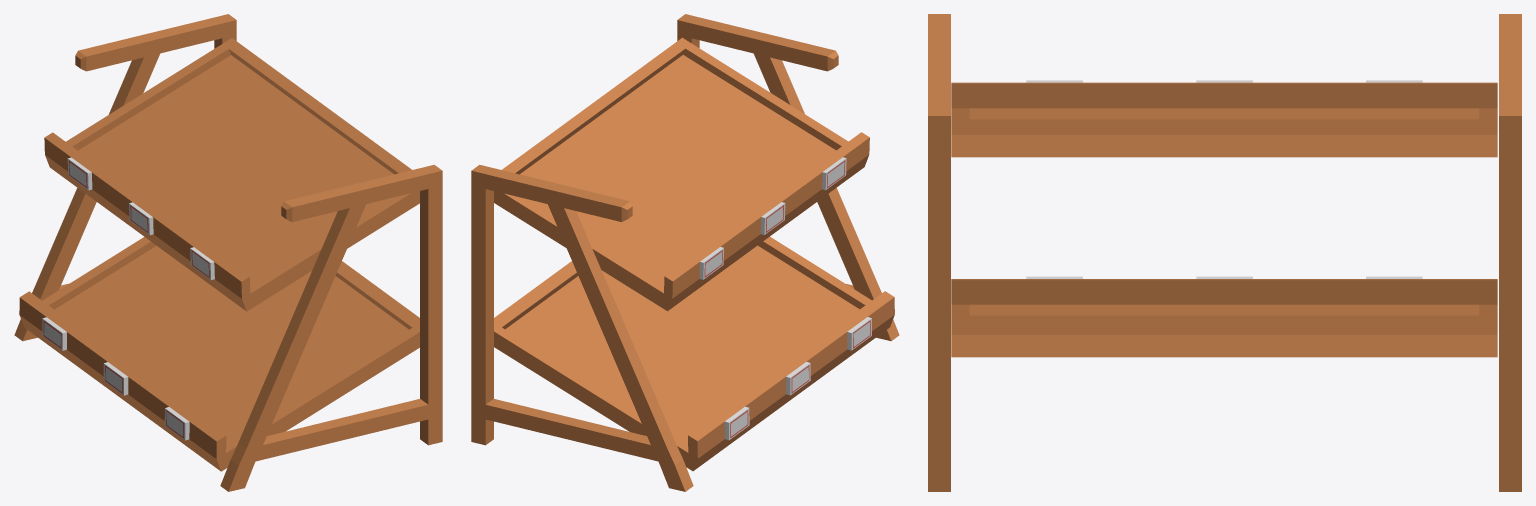
File: FrameForDrawers 1.fbx
3 renders of one model, left to right at view 1: azimuth 30°, elevation 25°; view 2: azimuth 150°, elevation 25°; view 3: azimuth 270°, elevation 25°, orthographic. The views are drawn at different scales.
Visible parts, largest first — view 1: FrameForDrawers; view 2: FrameForDrawers; view 3: FrameForDrawers.
Boxes of the visible parts, bbox=[...] form: FrameForDrawers: bbox=[14, 14, 442, 491]; FrameForDrawers: bbox=[471, 14, 899, 491]; FrameForDrawers: bbox=[928, 14, 1521, 491].
Bounding box in the file's own units: 0.7836 × 1.3 × 0.9115.
